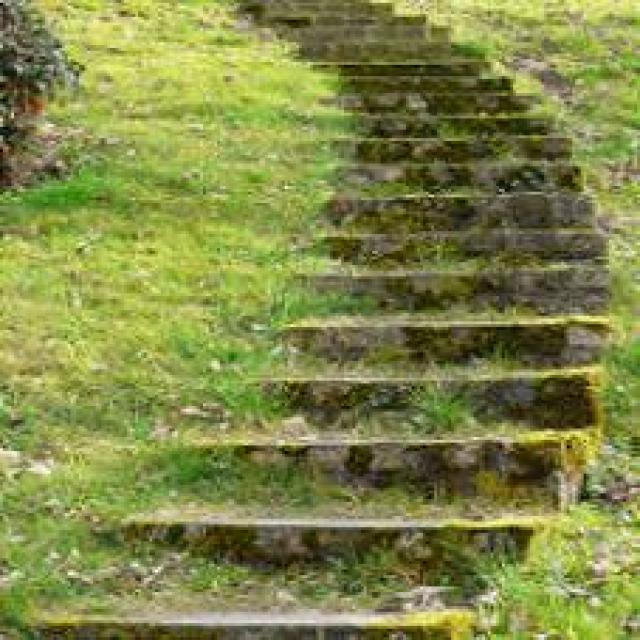upstair: (238, 314, 599, 565)
